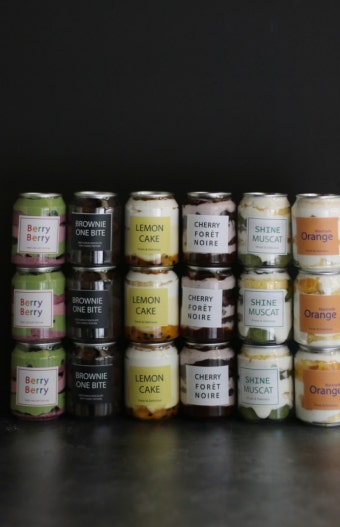paper: (177, 265, 238, 347), (12, 185, 66, 277), (236, 344, 296, 426), (124, 338, 185, 418), (9, 269, 67, 347), (178, 343, 237, 418), (122, 270, 182, 342), (11, 341, 64, 421), (288, 272, 340, 353), (127, 187, 180, 266), (181, 188, 234, 266), (70, 341, 120, 421), (241, 191, 294, 265), (294, 346, 340, 430), (292, 192, 340, 272), (70, 267, 117, 345), (67, 191, 114, 269)
